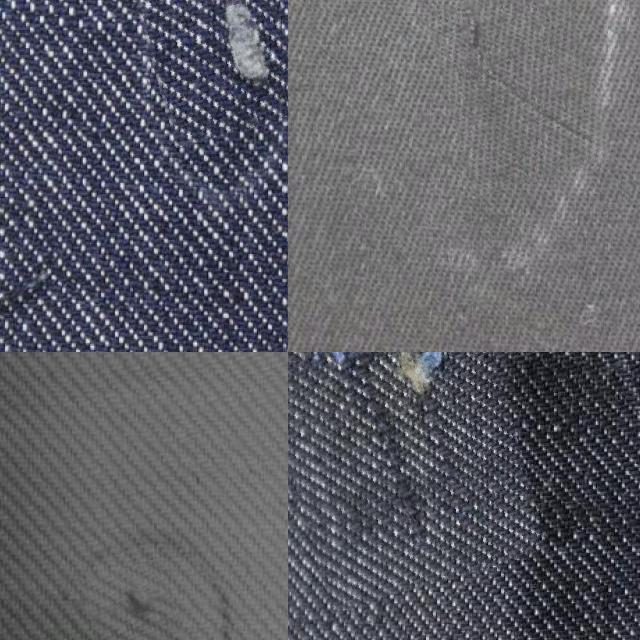stains: (288, 352, 527, 600), (436, 0, 602, 190), (135, 0, 288, 140), (84, 562, 181, 640)
